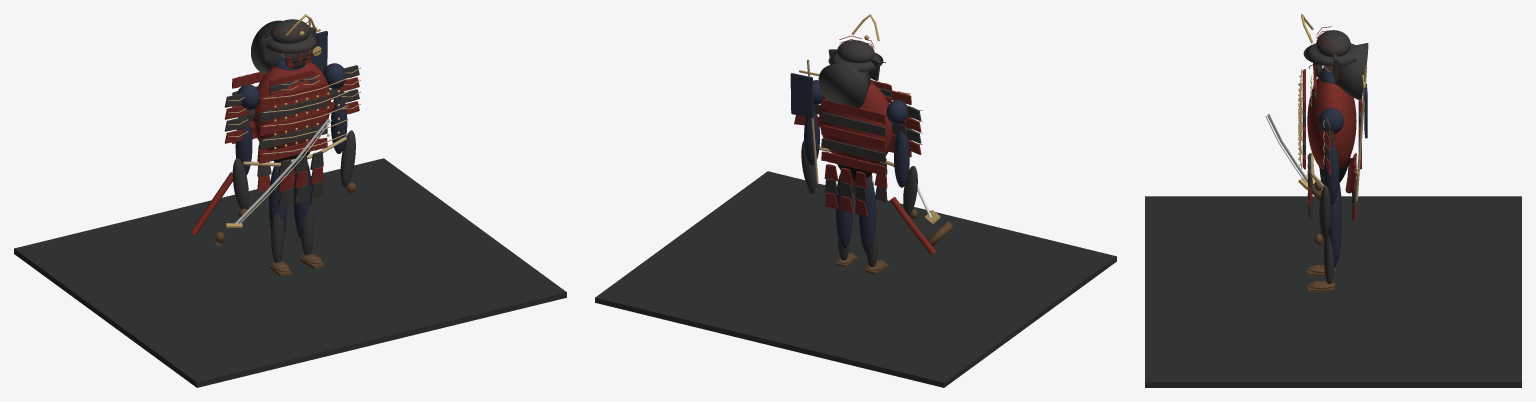
The model's file is actor-takeda-07.glb.
3 renders of one model, left to right at view 1: azimuth 30°, elevation 25°; view 2: azimuth 150°, elevation 25°; view 3: azimuth 270°, elevation 25°, orthographic. The views are drawn at different scales.
Visible parts, largest first — view 1: matte charcoal inspection plinth, rounded do cuirass silhouette, rear shikoro neck guard flare, segmented kabuto helmet bowl, right armored upper arm, right kote forearm guard, left kote forearm guard, wide kabuto brim, left hakama trouser leg, right hakama trouser leg, left armored upper arm, left shin greave (+2 smaller); view 2: matte charcoal inspection plinth, rear shikoro neck guard flare, rounded do cuirass silhouette, cloth sashimono banner panel, left hakama trouser leg, left armored upper arm, segmented kabuto helmet bowl, right hakama trouser leg, right armored upper arm, left kote forearm guard, lacquered saya scabbard at left hip; view 3: matte charcoal inspection plinth, rounded do cuirass silhouette, rear shikoro neck guard flare, segmented kabuto helmet bowl, right hakama trouser leg, wide kabuto brim, right armored upper arm, right kote forearm guard, right shoulder undercloth, right shin greave, bamboo sashimono back pole.
Boxes of the visible parts, left/top/right/bottom form: matte charcoal inspection plinth: left=14, top=158, right=566, bottom=387; rounded do cuirass silhouette: left=252, top=62, right=330, bottom=151; rear shikoro neck guard flare: left=251, top=20, right=283, bottom=74; segmented kabuto helmet bowl: left=270, top=19, right=310, bottom=43; right armored upper arm: left=331, top=93, right=347, bottom=153; right kote forearm guard: left=340, top=130, right=355, bottom=187; left kote forearm guard: left=232, top=158, right=248, bottom=209; wide kabuto brim: left=261, top=33, right=319, bottom=53; left hakama trouser leg: left=269, top=166, right=287, bottom=234; right hakama trouser leg: left=293, top=163, right=311, bottom=239; left armored upper arm: left=235, top=116, right=252, bottom=175; left shin greave: left=271, top=213, right=284, bottom=262; matte charcoal inspection plinth: left=595, top=171, right=1116, bottom=387; rear shikoro neck guard flare: left=818, top=61, right=870, bottom=108; rounded do cuirass silhouette: left=819, top=82, right=893, bottom=164; cloth sashimono banner panel: left=790, top=73, right=813, bottom=118; left hakama trouser leg: left=859, top=176, right=876, bottom=253; left armored upper arm: left=894, top=130, right=909, bottom=187; segmented kabuto helmet bowl: left=837, top=40, right=874, bottom=62; right hakama trouser leg: left=835, top=173, right=852, bottom=248; right armored upper arm: left=804, top=110, right=819, bottom=165; left kote forearm guard: left=903, top=166, right=917, bottom=215; lacquered saya scabbard at left hip: left=889, top=197, right=935, bottom=254; matte charcoal inspection plinth: left=1145, top=196, right=1521, bottom=387; rounded do cuirass silhouette: left=1307, top=76, right=1356, bottom=170; rear shikoro neck guard flare: left=1335, top=43, right=1368, bottom=99; segmented kabuto helmet bowl: left=1316, top=30, right=1350, bottom=56; right hakama trouser leg: left=1328, top=189, right=1341, bottom=267; wide kabuto brim: left=1303, top=43, right=1356, bottom=66; right armored upper arm: left=1323, top=142, right=1339, bottom=204; right kote forearm guard: left=1319, top=185, right=1330, bottom=238; right shoulder undercloth: left=1319, top=108, right=1343, bottom=134; right shin greave: left=1324, top=234, right=1334, bottom=283; bamboo sashimono back pole: left=1355, top=67, right=1367, bottom=200.
Bounding box in the file's own units: 4.2 × 2.96 × 3.6.
